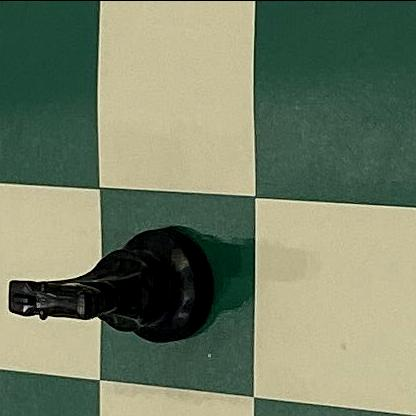black-knight: (5, 223, 218, 342)
